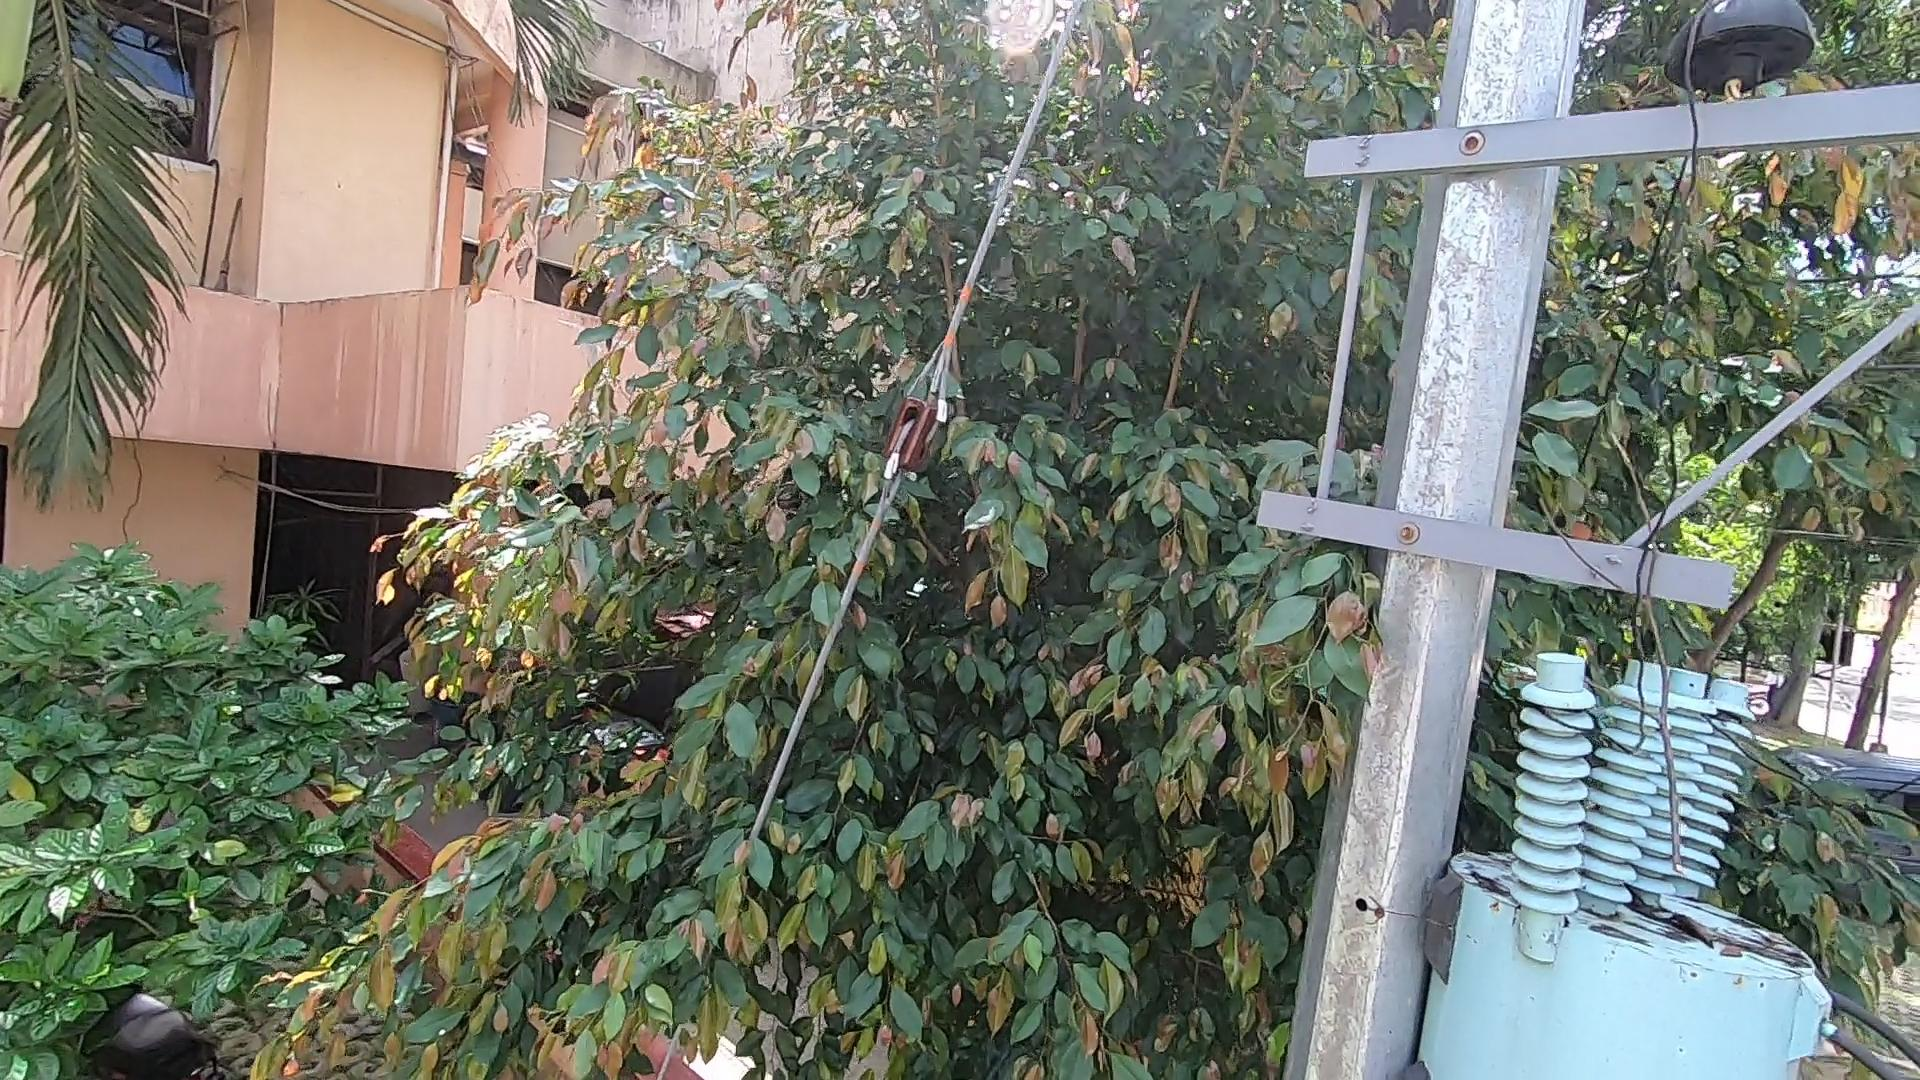leaf: (1629, 882, 1727, 959)
tree branch: (1549, 409, 1706, 878)
